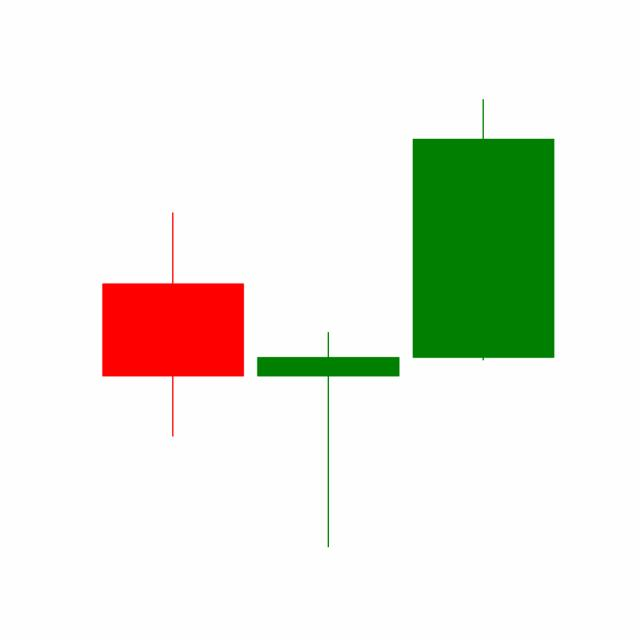Spinning Top: (249, 330, 406, 550)
